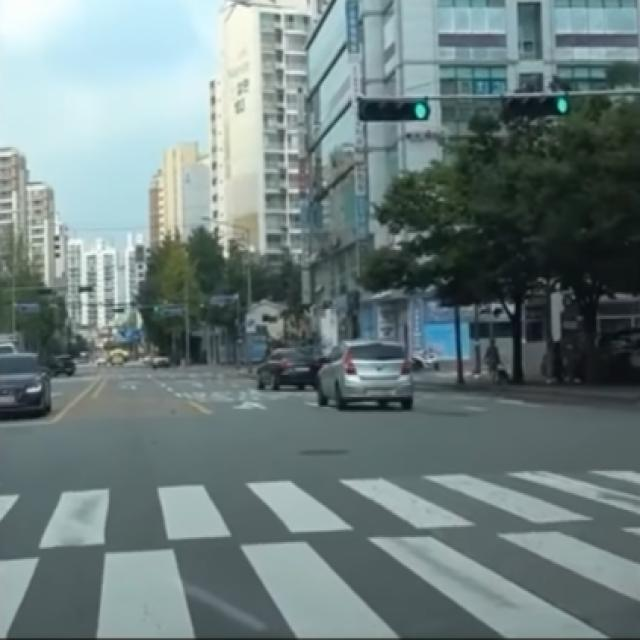Green Light: (555, 92, 568, 115), (413, 100, 428, 119)
